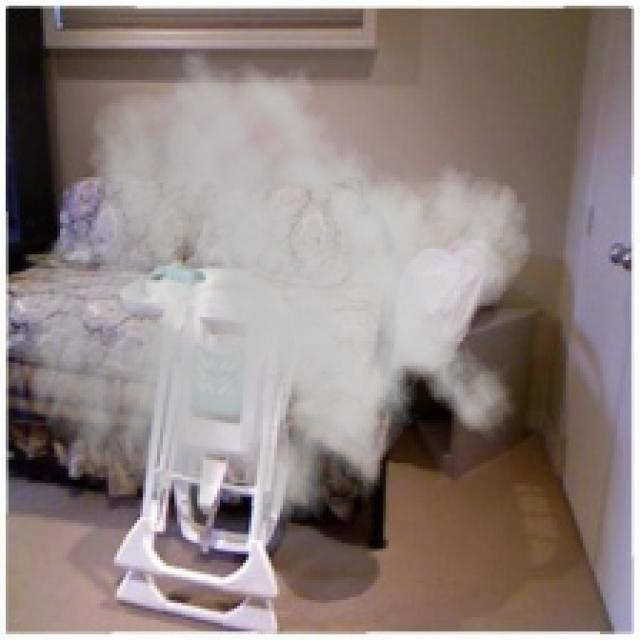Smoke: (19, 34, 534, 580)
